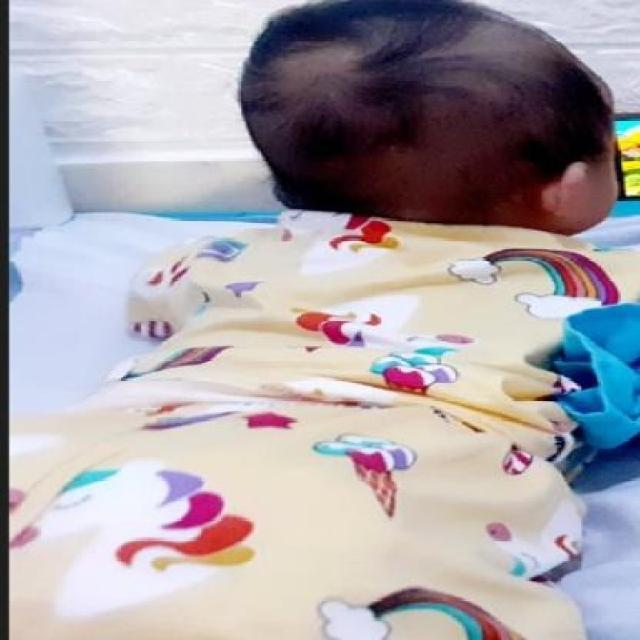baby: (9, 2, 616, 640)
